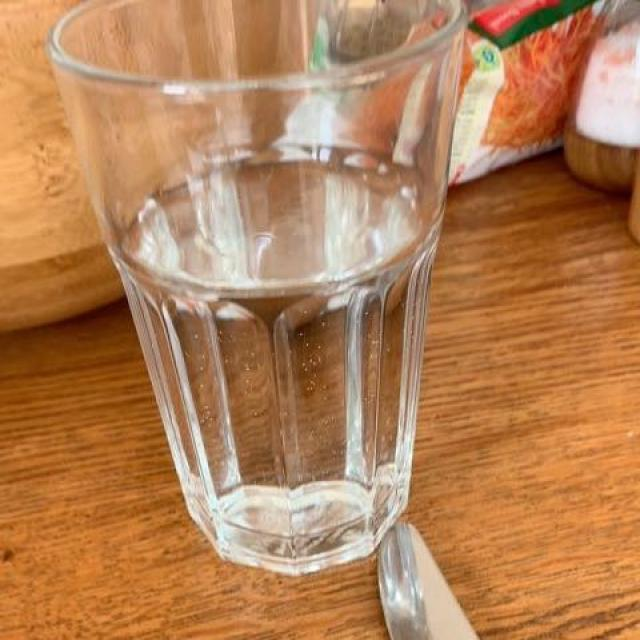water: (93, 29, 457, 538)
